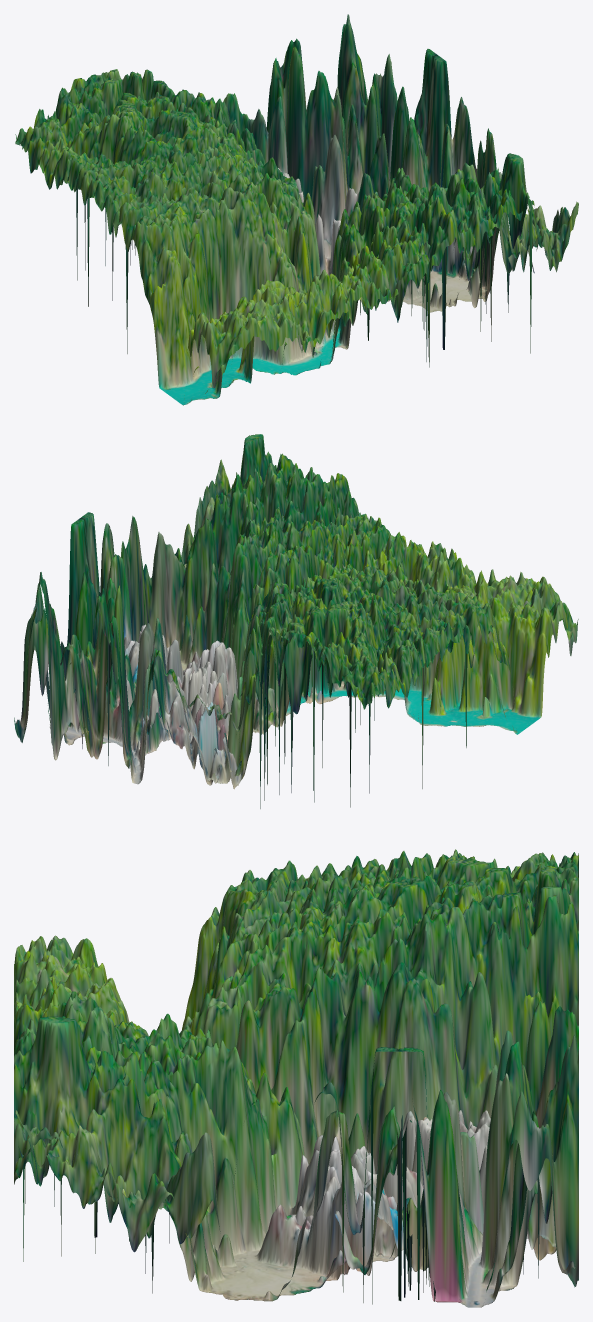
File: dsm_4964b26c9d_mesh.glb
3 views of the same model, one above another, from view 1: azimuth 30°, elevation 25°; view 2: azimuth 150°, elevation 25°; view 3: azimuth 270°, elevation 25° (orthographic). The views are drawn at different scales.
Parts seen in each view (by area): view 1: geometry_0; view 2: geometry_0; view 3: geometry_0.
Boxes of the visible parts, x1,y1,x2,y2 form: geometry_0: (15,14,578,405); geometry_0: (14,434,578,808); geometry_0: (14,849,578,1307).
Bounding box in the file's own units: 2 × 1 × 2.
